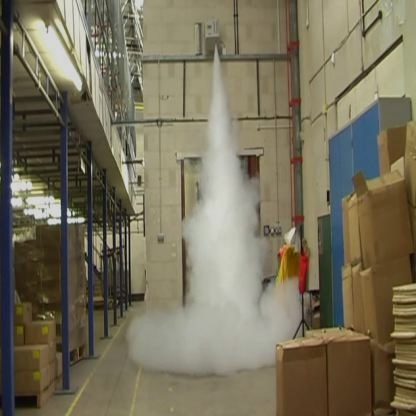smoke: (141, 51, 293, 362)
